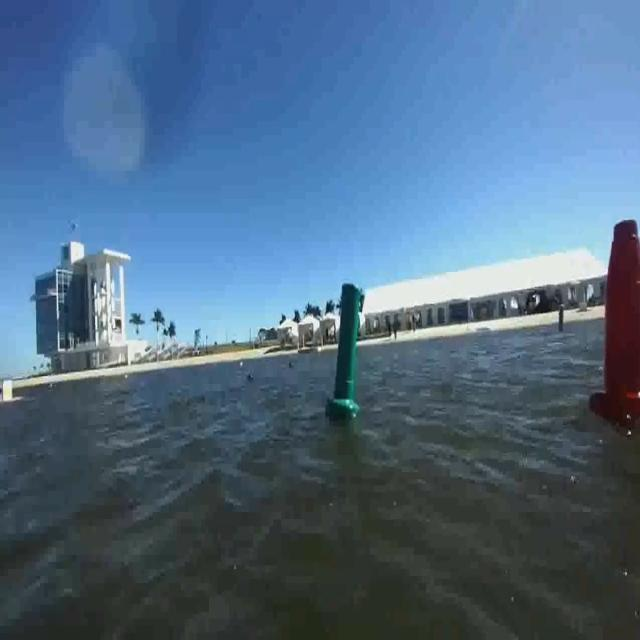green-column-buoy: (331, 277, 364, 418)
red-column-buoy: (592, 213, 640, 423)
